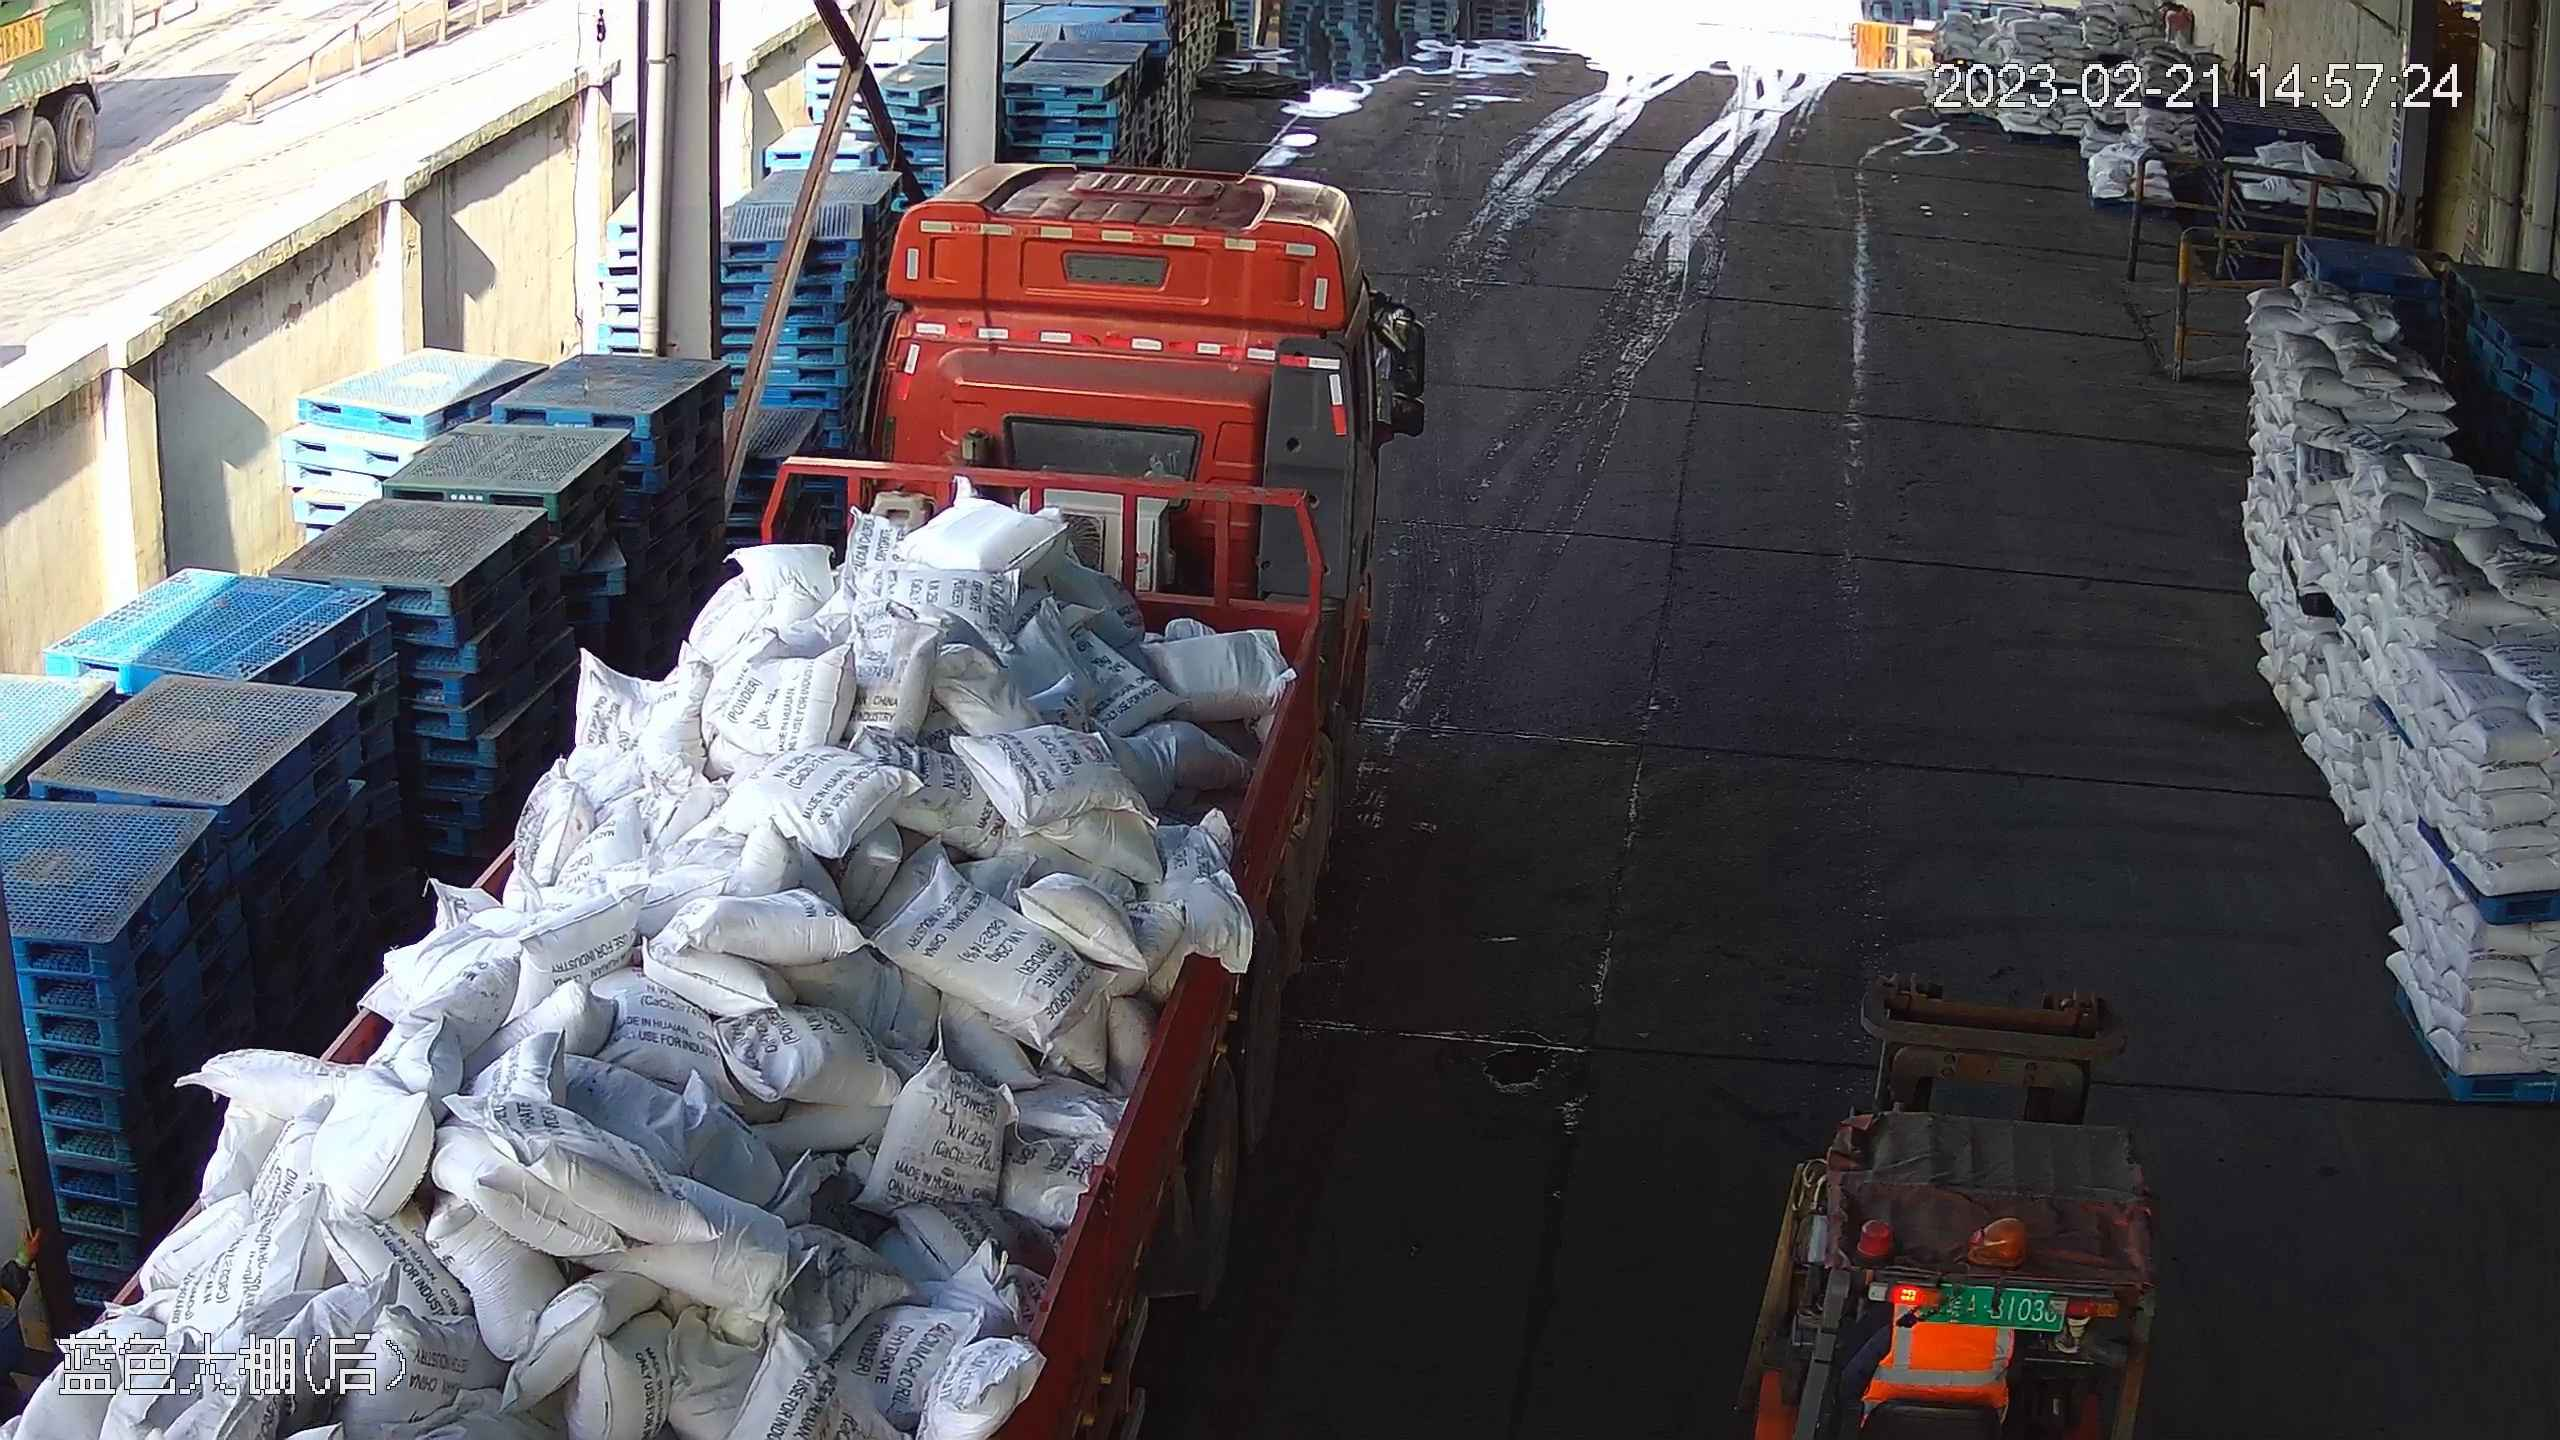truck: (2, 160, 1385, 1440)
